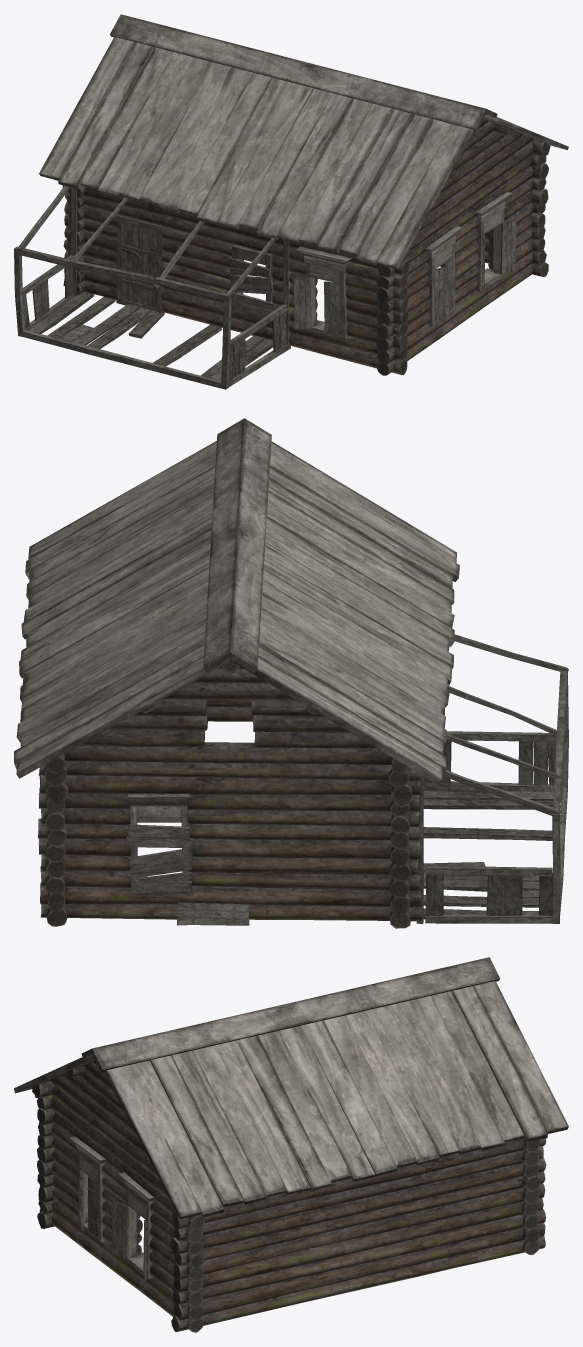
File: old_house.glb
3 views of the same model, one above another, from view 1: azimuth 30°, elevation 25°; view 2: azimuth 150°, elevation 25°; view 3: azimuth 270°, elevation 25° (orthographic). The views are drawn at different scales.
Parts seen in each view (by area): view 1: Cube.004, Cylinder.034, Cube.019, Cube.020, Cube.014, Cube.016, Cube.003, Cube.002, Cube.015, Cube.001, Cube.011, Cube.013 (+2 smaller); view 2: Cube.004, Cylinder.034, Cube.019, Cube.020, Cube.008, Cube.010; view 3: Cube.004, Cylinder.034, Cube.002, Cube.001, Cube, Cube.007.
Part boxes in pixels (bbox=[...]): Cube.004: bbox=[39, 14, 568, 269]; Cylinder.034: bbox=[62, 119, 550, 375]; Cube.019: bbox=[14, 186, 290, 389]; Cube.020: bbox=[28, 291, 273, 380]; Cube.014: bbox=[229, 244, 275, 319]; Cube.016: bbox=[121, 222, 157, 308]; Cube.003: bbox=[295, 246, 352, 339]; Cube.002: bbox=[475, 191, 512, 291]; Cube.015: bbox=[116, 214, 164, 312]; Cube.001: bbox=[425, 226, 462, 326]; Cube.011: bbox=[293, 277, 311, 329]; Cube.013: bbox=[324, 281, 341, 334]; Cube.004: bbox=[14, 418, 459, 784]; Cylinder.034: bbox=[38, 666, 421, 928]; Cube.019: bbox=[416, 634, 568, 923]; Cube.020: bbox=[423, 790, 561, 919]; Cube.008: bbox=[126, 793, 193, 893]; Cube.010: bbox=[177, 902, 249, 925]; Cube.004: bbox=[14, 957, 568, 1218]; Cylinder.034: bbox=[32, 1061, 546, 1332]; Cube.002: bbox=[118, 1172, 154, 1279]; Cube.001: bbox=[69, 1136, 106, 1242]; Cube: bbox=[111, 1202, 128, 1259]; Cube.007: bbox=[87, 1176, 98, 1236].
Size of the model in its own units: 11.4 by 5.04 by 10.76.
Materials: 3 (3 with a texture image).
